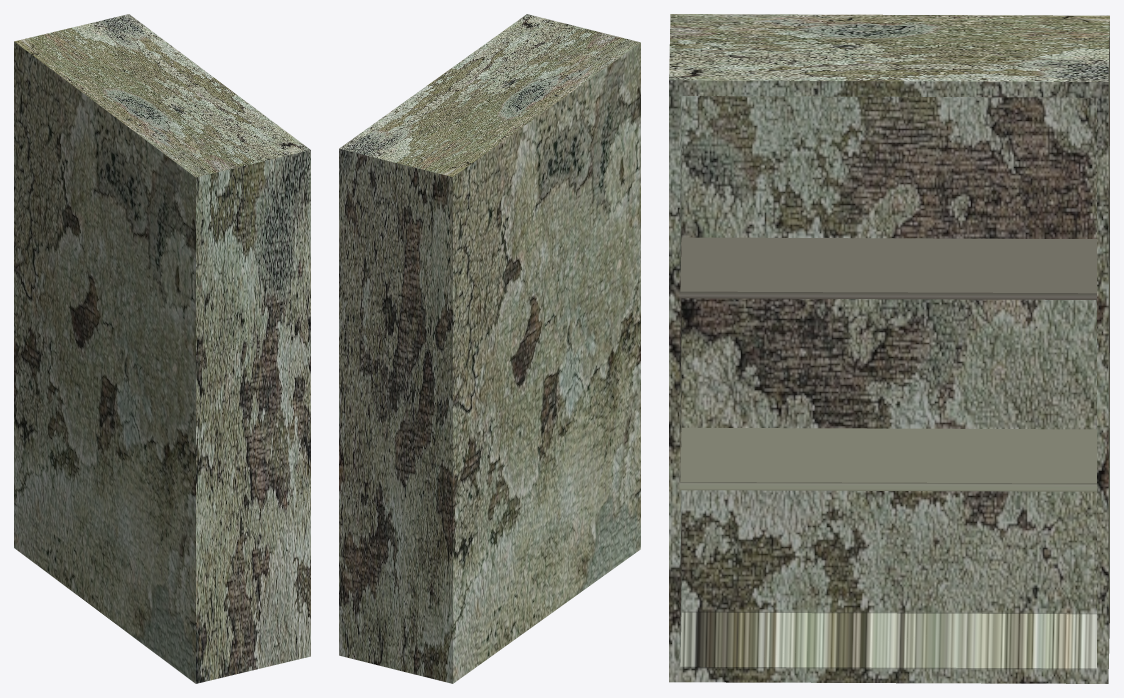
The model's file is Shelves.fbx.
3 renders of one model, left to right at view 1: azimuth 30°, elevation 25°; view 2: azimuth 150°, elevation 25°; view 3: azimuth 270°, elevation 25°, orthographic. The views are drawn at different scales.
Visible parts, largest first — view 1: Cube.045; view 2: Cube.045; view 3: Cube.045.
Part boxes in pixels (left/top/right/bottom): Cube.045: left=14, top=14, right=310, bottom=683; Cube.045: left=339, top=14, right=640, bottom=683; Cube.045: left=669, top=14, right=1109, bottom=683.
Size of the model in its own units: 0.1034 by 0.283 by 0.4262.
Materials: 1 (1 with a texture image).
